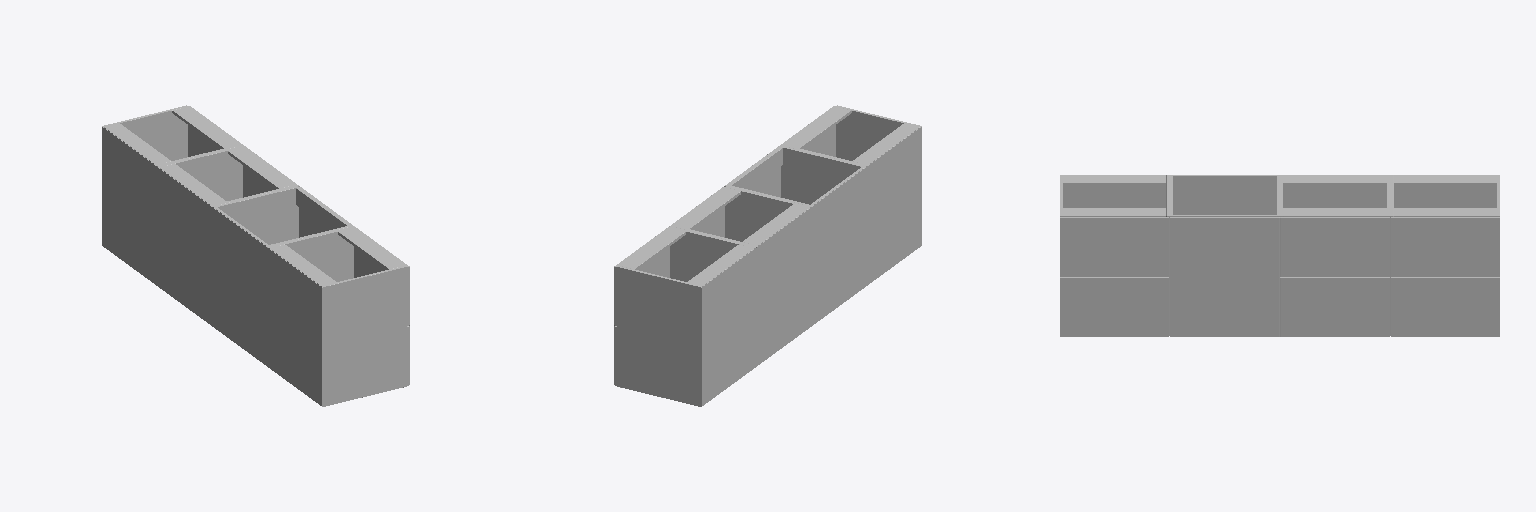
3 views of the same model, side by side, from view 1: azimuth 30°, elevation 25°; view 2: azimuth 150°, elevation 25°; view 3: azimuth 270°, elevation 25° (orthographic).
Visible parts, largest first — view 1: Kitchen_05__corona_Kitchen_05_001 group44, group44 Kitchen_05__corona_Kitchen_05_004, group44 Kitchen_05__corona_Kitchen_05_005, group44 Kitchen_05__corona_Kitchen_05_003; view 2: group44 Kitchen_05__corona_Kitchen_05_003, group44 Kitchen_05__corona_Kitchen_05_005, group44 Kitchen_05__corona_Kitchen_05_004, Kitchen_05__corona_Kitchen_05_001 group44; view 3: group44 Kitchen_05__corona_Kitchen_05_004, group44 Kitchen_05__corona_Kitchen_05_005, Kitchen_05__corona_Kitchen_05_001 group44, group44 Kitchen_05__corona_Kitchen_05_003.
Boxes of the visible parts, <box> form: Kitchen_05__corona_Kitchen_05_001 group44: <box>267,227,409,406</box>; group44 Kitchen_05__corona_Kitchen_05_004: <box>157,146,299,325</box>; group44 Kitchen_05__corona_Kitchen_05_005: <box>212,186,354,365</box>; group44 Kitchen_05__corona_Kitchen_05_003: <box>102,105,243,285</box>; group44 Kitchen_05__corona_Kitchen_05_003: <box>614,227,756,406</box>; group44 Kitchen_05__corona_Kitchen_05_005: <box>724,146,866,325</box>; group44 Kitchen_05__corona_Kitchen_05_004: <box>669,186,811,365</box>; Kitchen_05__corona_Kitchen_05_001 group44: <box>780,105,921,285</box>; group44 Kitchen_05__corona_Kitchen_05_004: <box>1280,175,1389,336</box>; group44 Kitchen_05__corona_Kitchen_05_005: <box>1170,175,1279,336</box>; Kitchen_05__corona_Kitchen_05_001 group44: <box>1060,175,1169,336</box>; group44 Kitchen_05__corona_Kitchen_05_003: <box>1390,175,1499,336</box>.
Size of the model in its own units: 78.14 by 102 by 340.